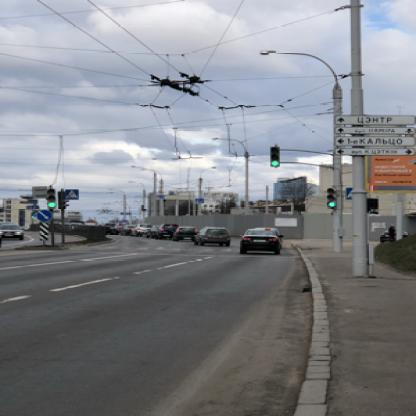crosswalk: (342, 186, 351, 198)
trafficlight: (266, 144, 278, 166), (324, 185, 336, 206), (43, 187, 54, 207), (57, 189, 66, 208)
